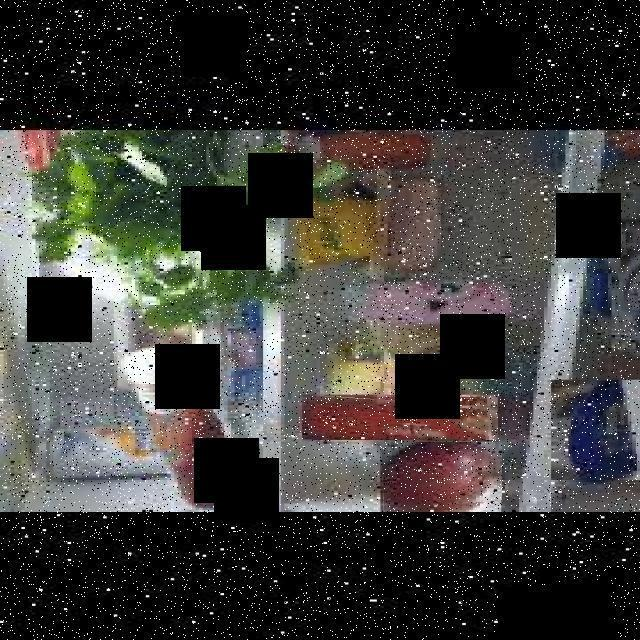apple: (380, 442, 502, 512)
cheese: (551, 380, 640, 480), (611, 243, 640, 349)
tomato_sauce: (302, 394, 498, 440)
